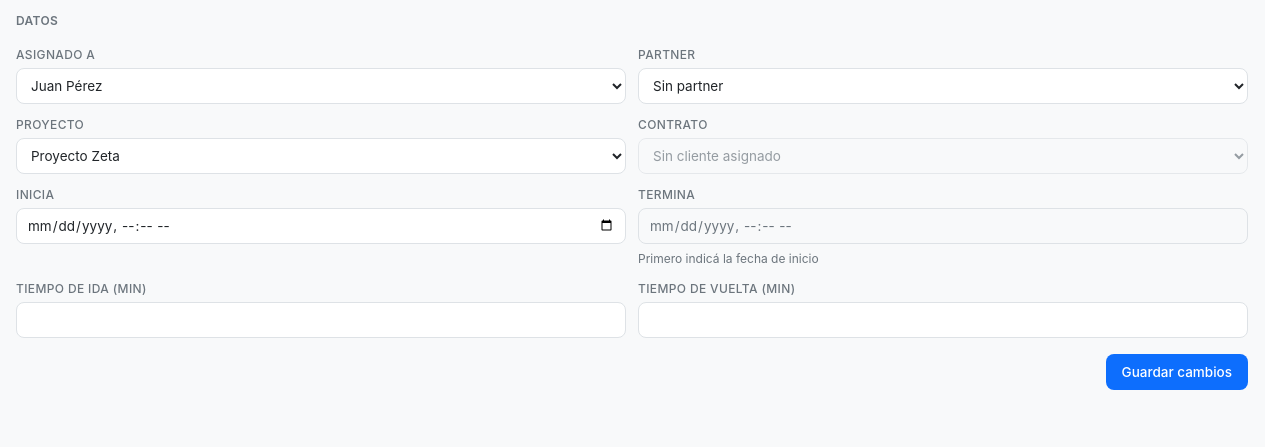
DatosForm › IClass warning › visible when iclassOrderCode is set AND project changed
// Change to a different project
Select "Proyecto Alpha" in the dropdown labelled "Proyecto": x=321, y=156 [16,138,626,174]
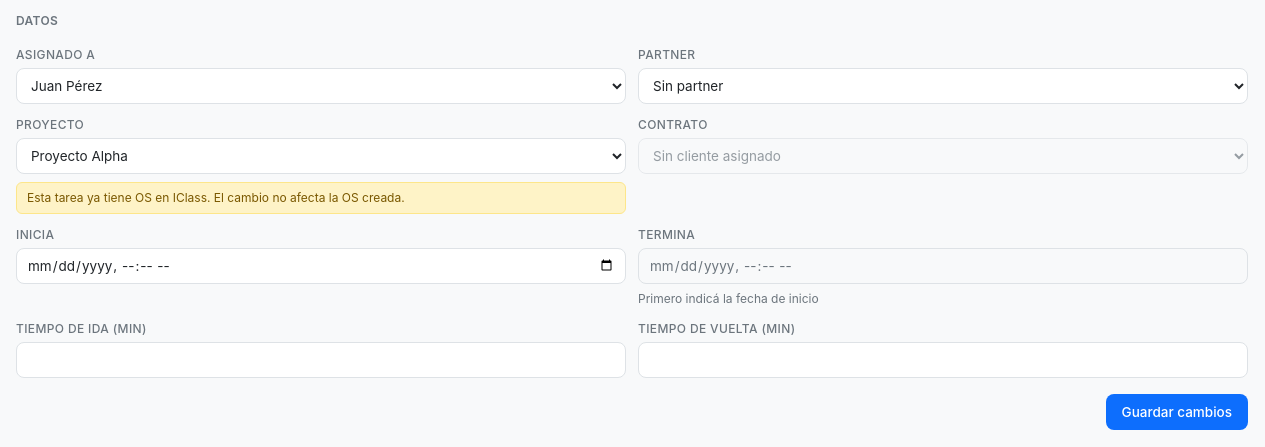
Now the text "ya tiene OS en IClass" is shown, box [27,190,405,205]
